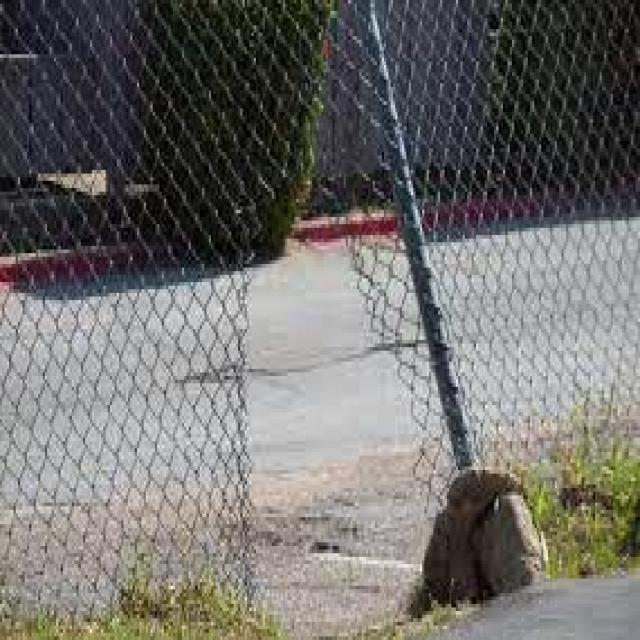fence line: (235, 186, 444, 620)
